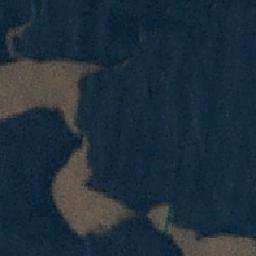debris: (1, 61, 81, 118), (63, 215, 120, 237), (194, 233, 256, 253), (59, 196, 109, 215), (51, 179, 88, 202), (148, 202, 171, 232), (171, 225, 196, 248), (110, 201, 134, 221), (80, 63, 109, 76), (66, 117, 83, 139), (72, 160, 92, 177), (75, 142, 89, 161), (56, 166, 70, 185), (9, 28, 24, 39), (7, 32, 13, 58), (69, 152, 75, 170)
